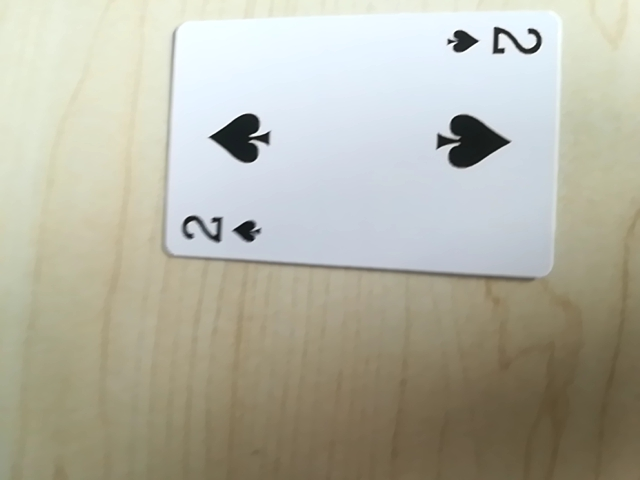ht 2: (440, 17, 549, 68), (174, 204, 271, 255)
